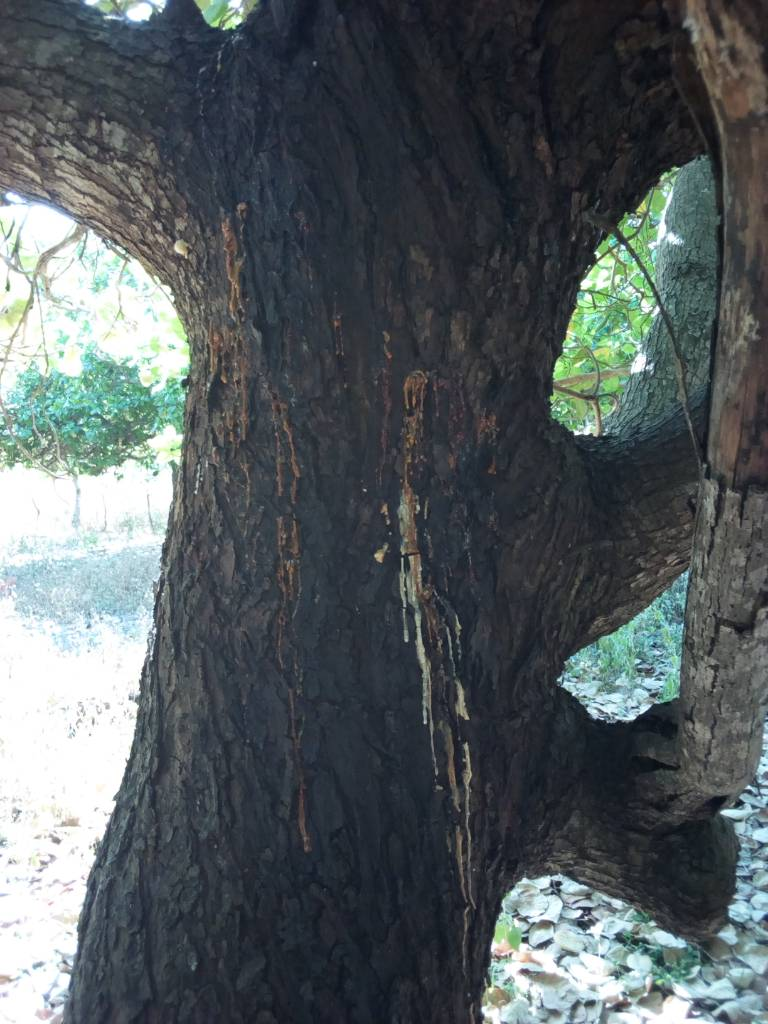Gommose: (390, 371, 540, 925), (171, 32, 321, 463), (269, 485, 324, 852)
